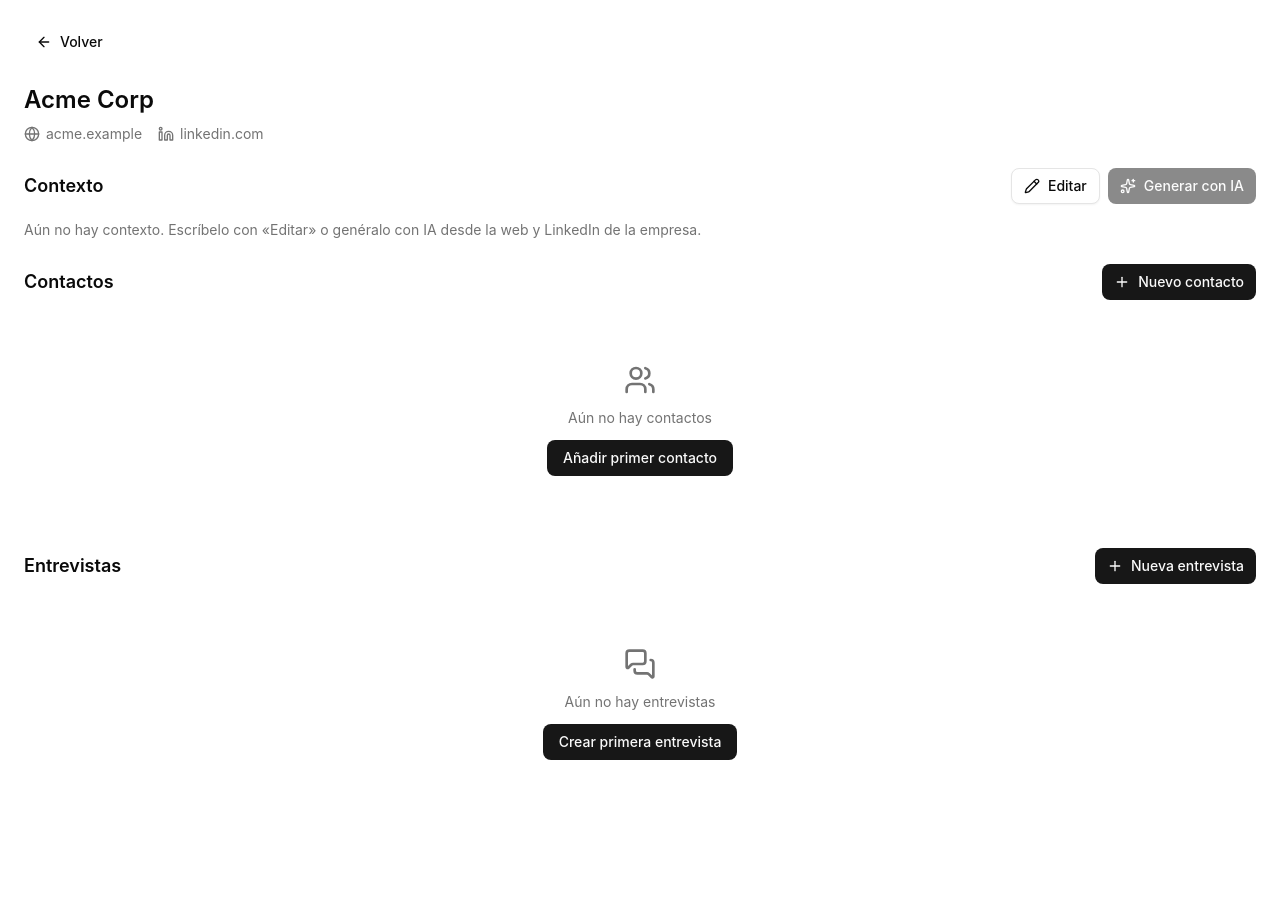
it: CompanyDetailPage › header › shows the back button, the company title and its external links with visible hostnames
Expected: the heading "Acme Corp" is shown, [24, 85, 154, 114]
Expected: the link with aria-label "Abrir website" reads "acme.example", [24, 124, 142, 144]
// "Volver" regresa al listado global de Empresas (SPEC-044)
Click the button "Volver". click: (69, 42)
box: [24, 24, 115, 60]
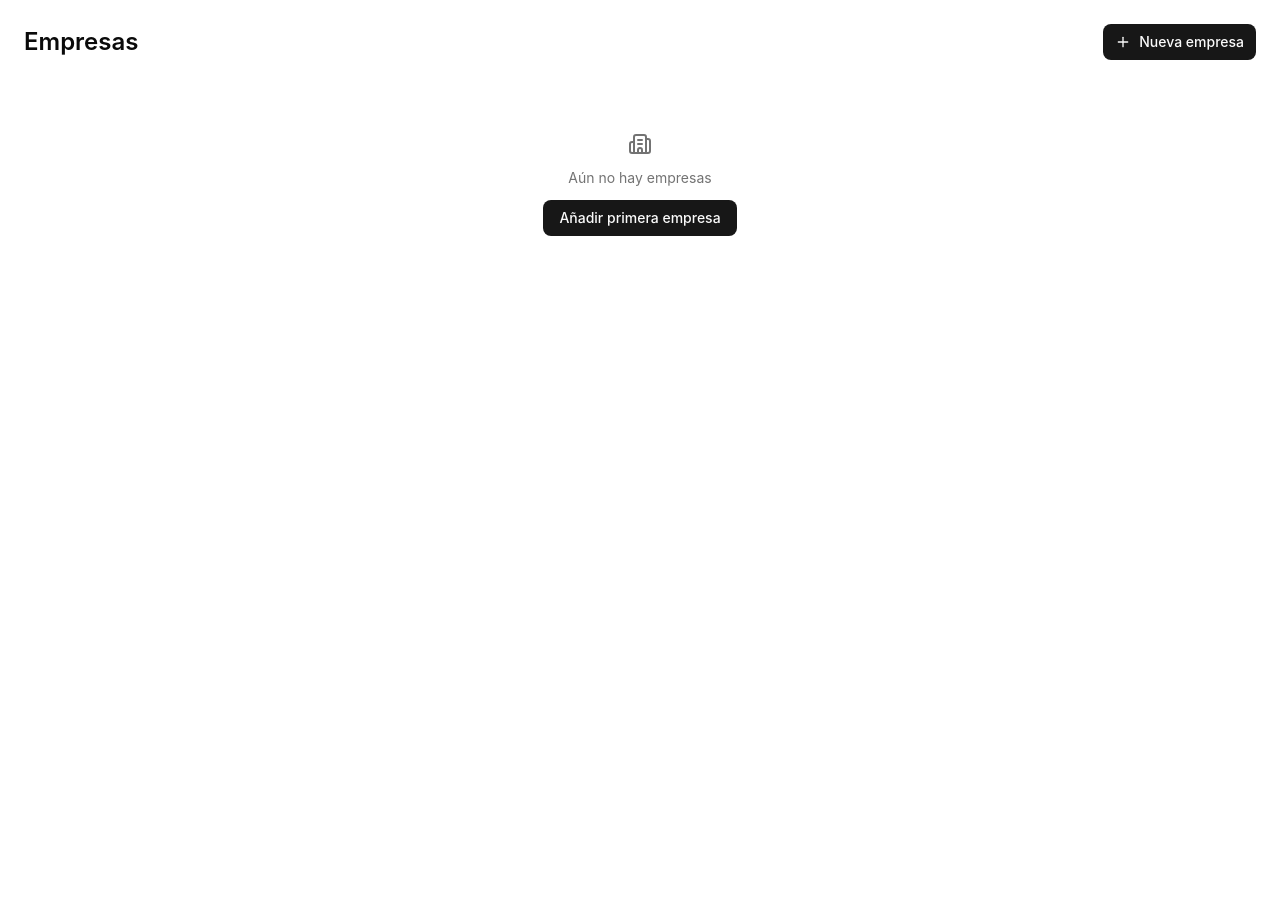
Result: the heading "Empresas" is shown at [24, 26, 138, 58]
Result: the text "Aún no hay empresas" is shown at [568, 168, 712, 188]
